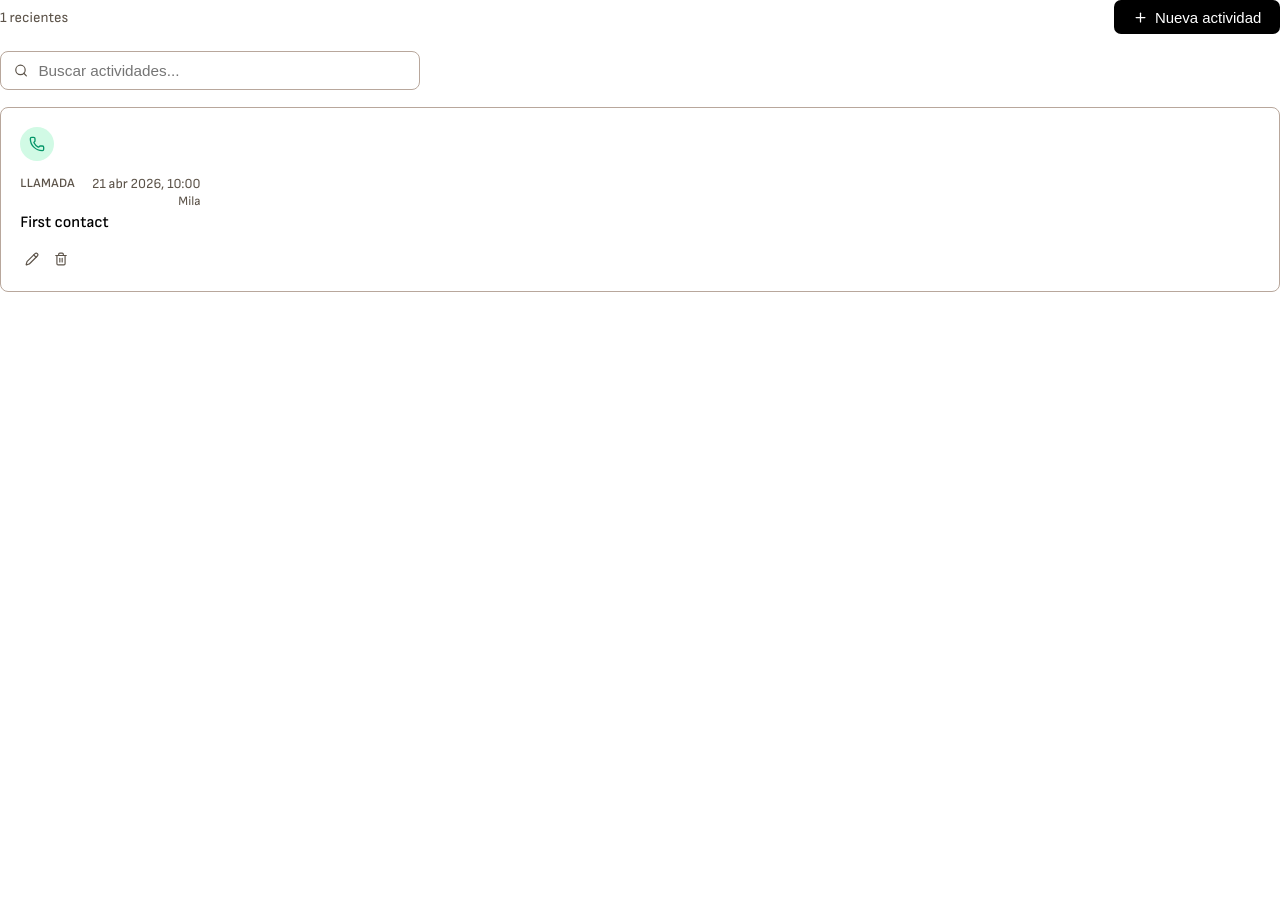
Test: ActivityTab — shared behaviour › removes activity after deletion
Check: the text "First contact" is shown, box [20, 213, 109, 232]
Click the button titled "Eliminar" at (61, 261), box [49, 247, 73, 274]
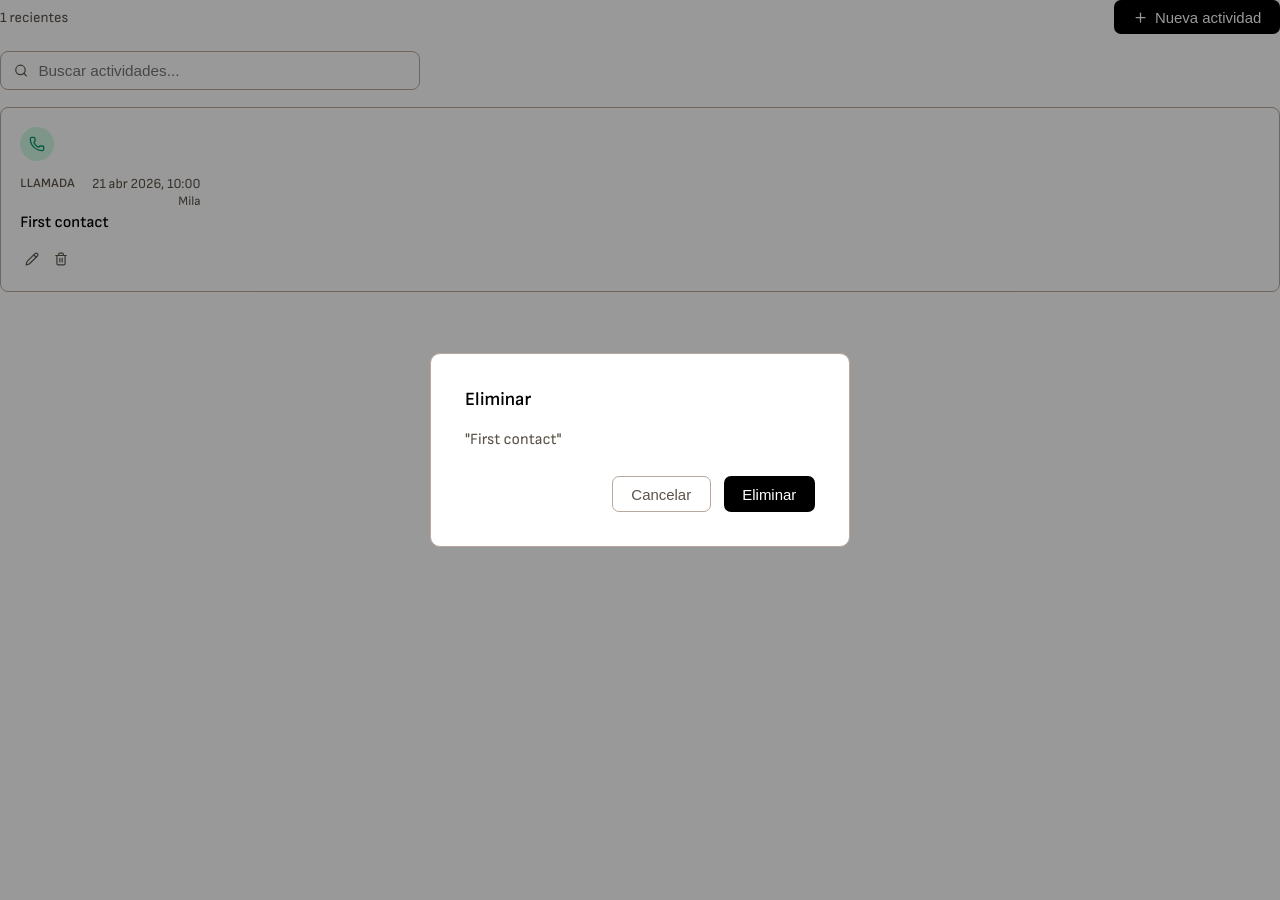
Click the button "Eliminar" at (769, 494), box [724, 476, 815, 512]
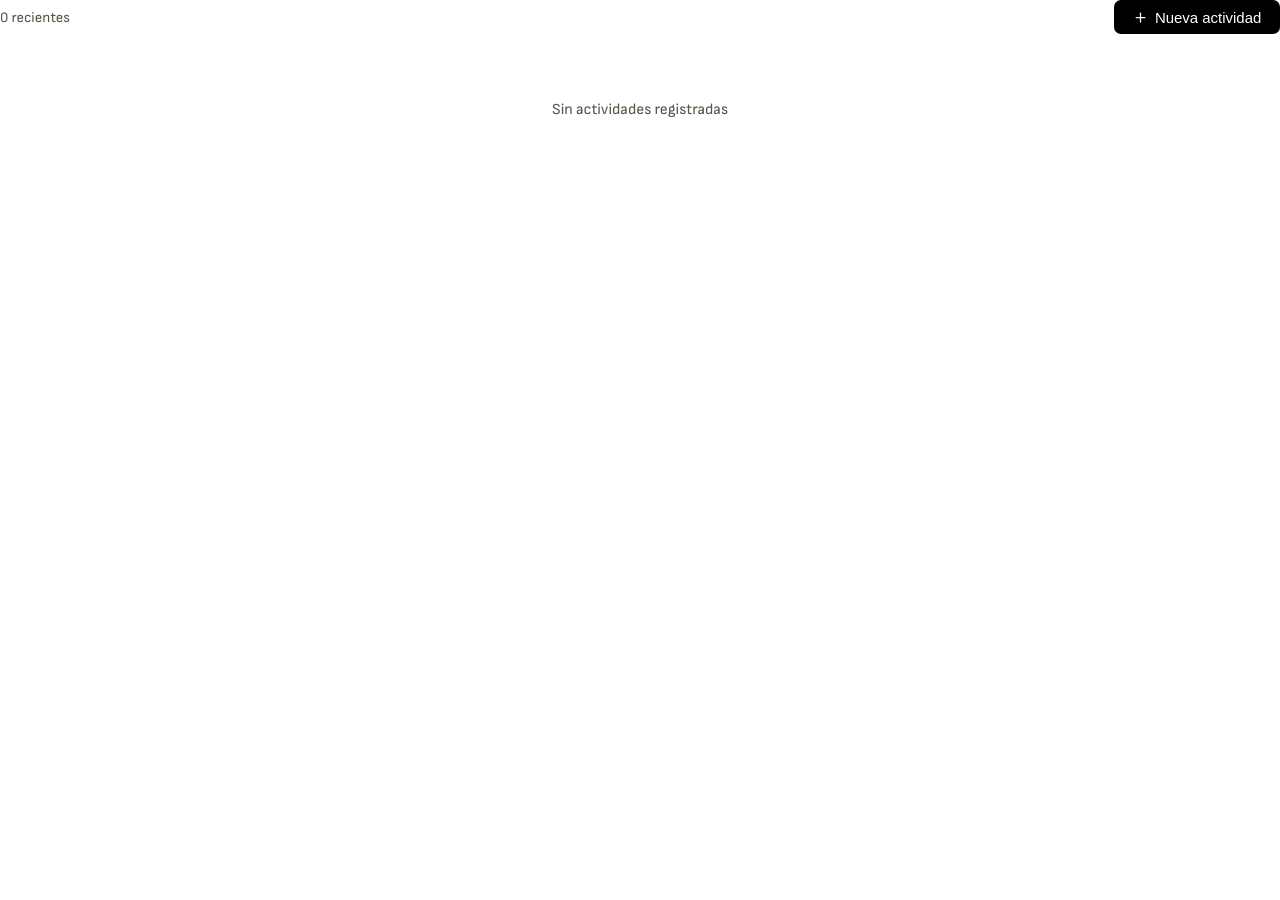
Check: the text "First contact" is gone
